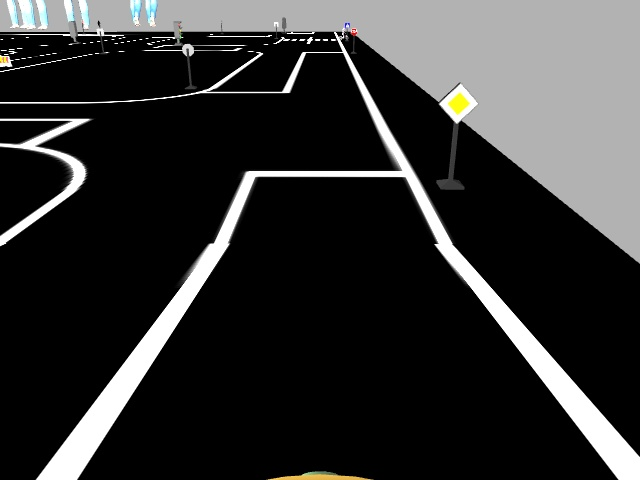ClosedRoadStand: (0, 55, 13, 67)
Priority: (439, 78, 478, 124)
